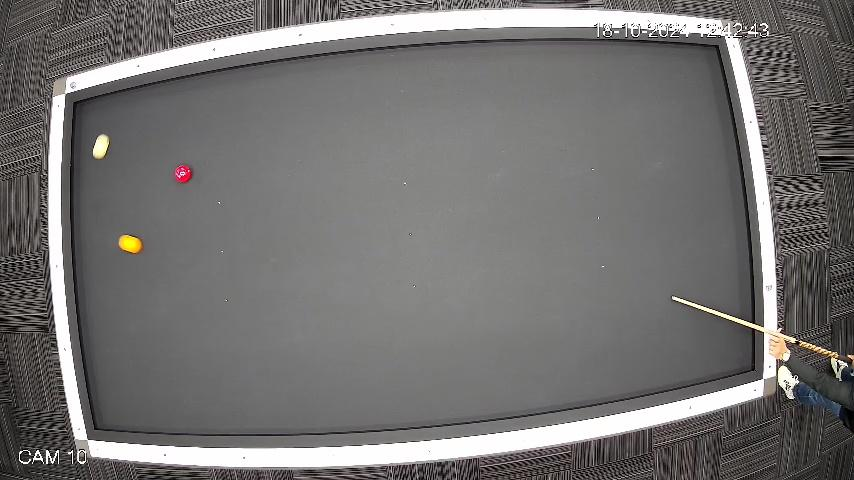Red: (173, 164, 193, 184)
White: (92, 132, 110, 161)
Yellow: (117, 234, 142, 254)
